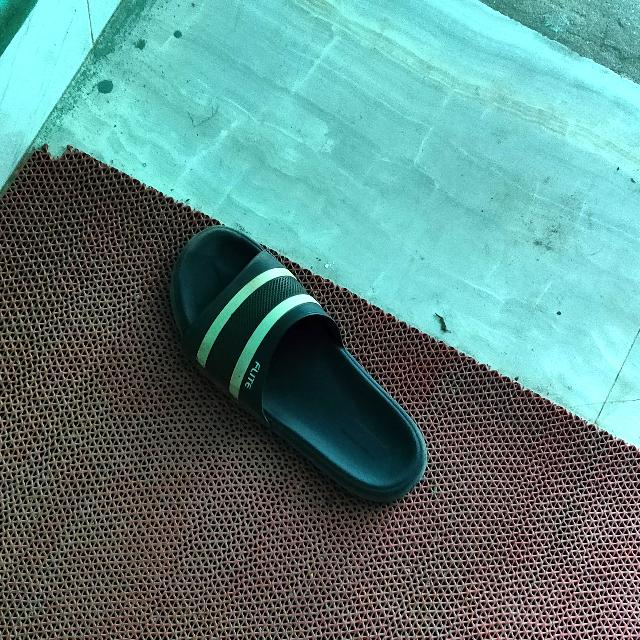sandal: (138, 206, 455, 539)
